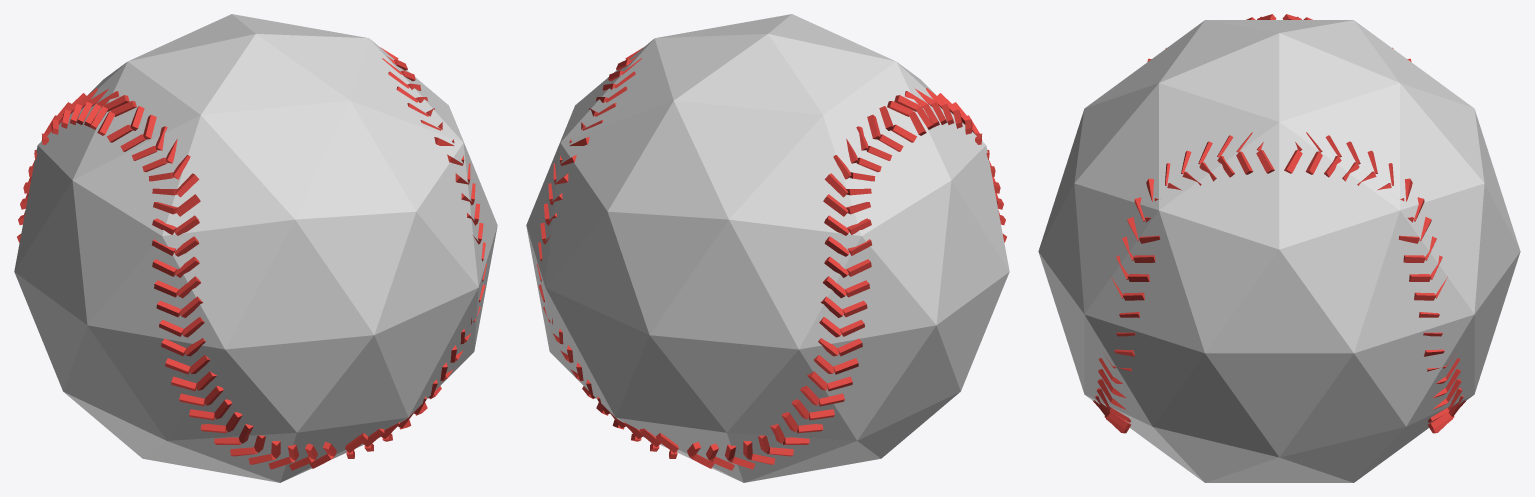
The model's file is baseball.glb.
3 views of the same model, side by side, from view 1: azimuth 30°, elevation 25°; view 2: azimuth 150°, elevation 25°; view 3: azimuth 270°, elevation 25° (orthographic).
Parts seen in each view (by area): view 1: Body_0, Stitches 2_4, Stitches 1_2; view 2: Body_0, Stitches 2_4, Stitches 1_2; view 3: Body_0, Stitches 1_2.
Boxes of the visible parts, bbox=[...] form: Body_0: bbox=[14, 14, 497, 482]; Stitches 2_4: bbox=[17, 88, 336, 470]; Stitches 1_2: bbox=[345, 47, 486, 458]; Body_0: bbox=[526, 14, 1009, 482]; Stitches 2_4: bbox=[687, 88, 1006, 470]; Stitches 1_2: bbox=[537, 47, 678, 458]; Body_0: bbox=[1038, 20, 1520, 482]; Stitches 1_2: bbox=[1093, 132, 1465, 433].
Bounding box in the file's own units: 1.99 × 1.99 × 1.99.
